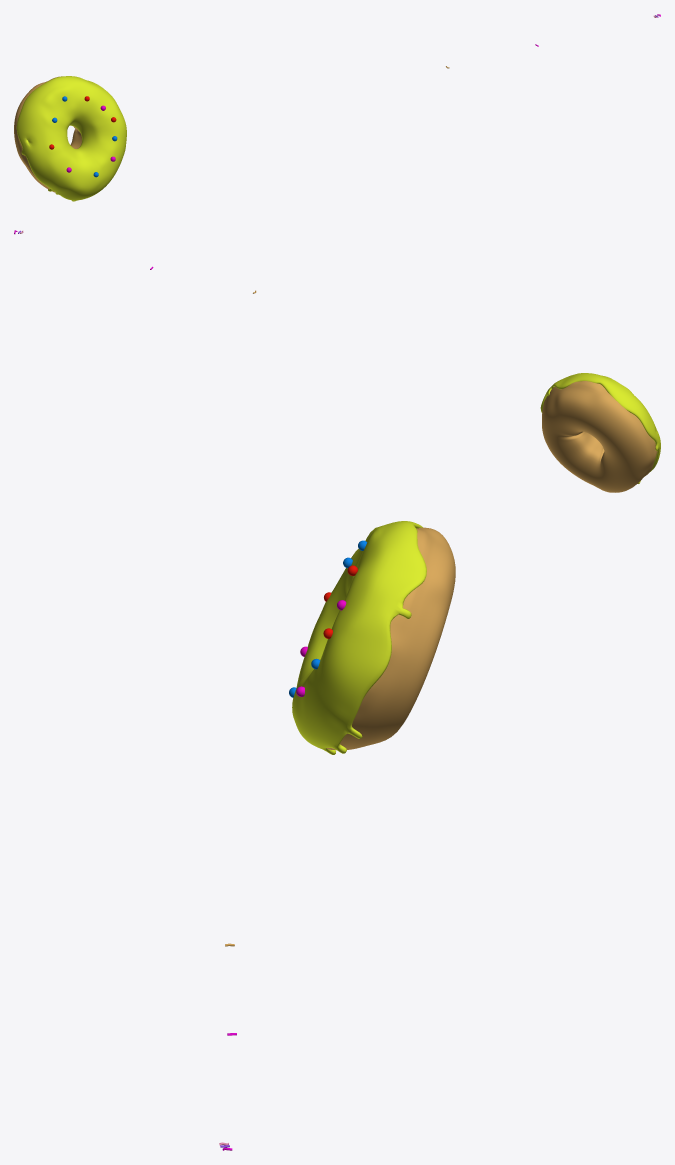
The model's file is doughnut.glb.
3 views of the same model, one above another, from view 1: azimuth 30°, elevation 25°; view 2: azimuth 150°, elevation 25°; view 3: azimuth 270°, elevation 25° (orthographic). The views are drawn at different scales.
Parts seen in each view (by area): view 1: Icing, donut; view 2: donut, Icing; view 3: Icing, donut.
Part boxes in pixels (x1,y1,x2,y2): Icing: (16, 76, 126, 201); donut: (14, 76, 81, 192); donut: (542, 381, 657, 492); Icing: (540, 373, 660, 483); Icing: (292, 521, 426, 754); donut: (326, 527, 455, 750).
Size of the model in its own units: 1.07 by 0.1873 by 0.1826.
8 materials, 1 textured.
